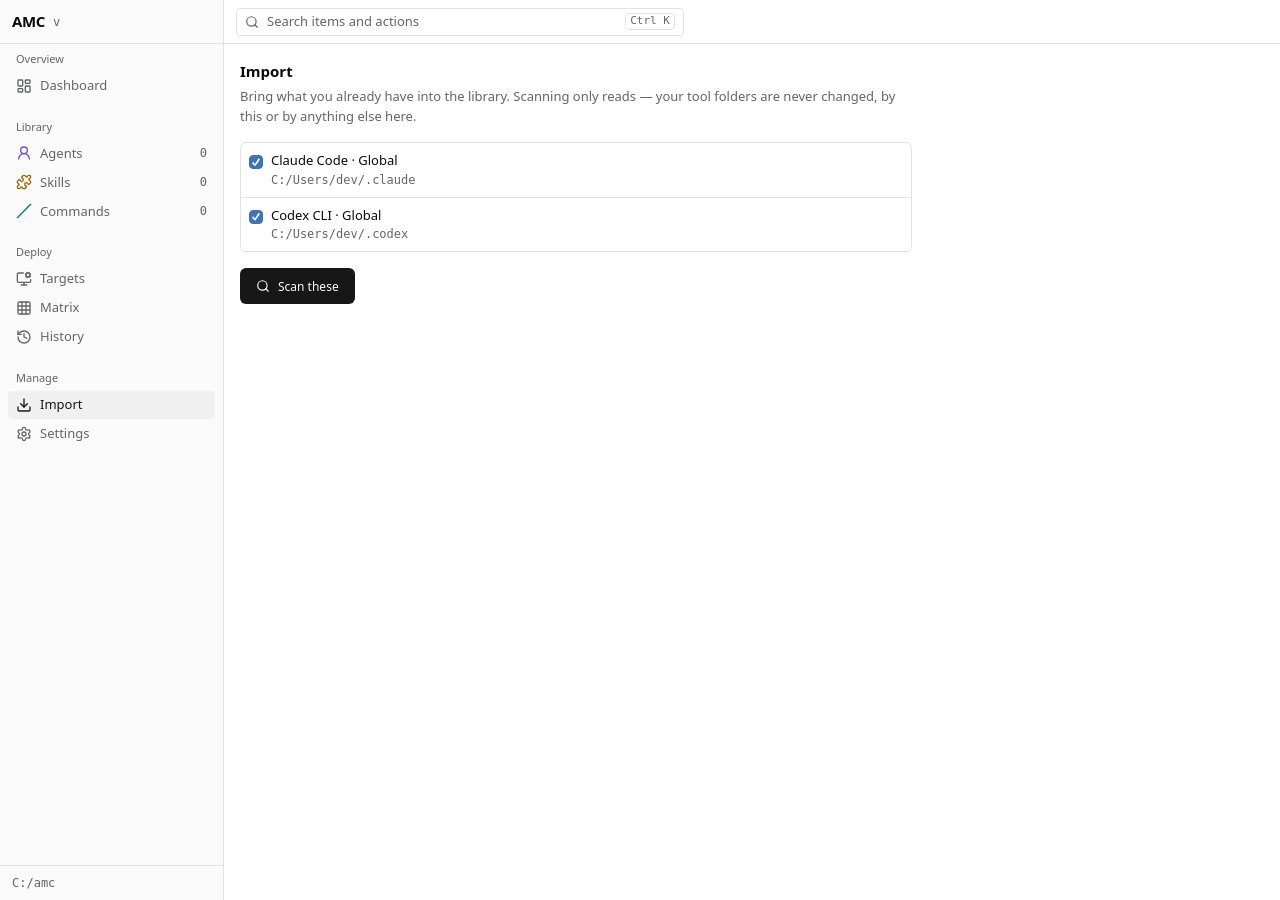
Test: reviewing what was found (T1.8.2, T1.8.5) › shows one item with every tool it was found in
This screenshot has width=1280, height=900.
Click the button "Scan these": [297, 286] box [240,268,355,304]
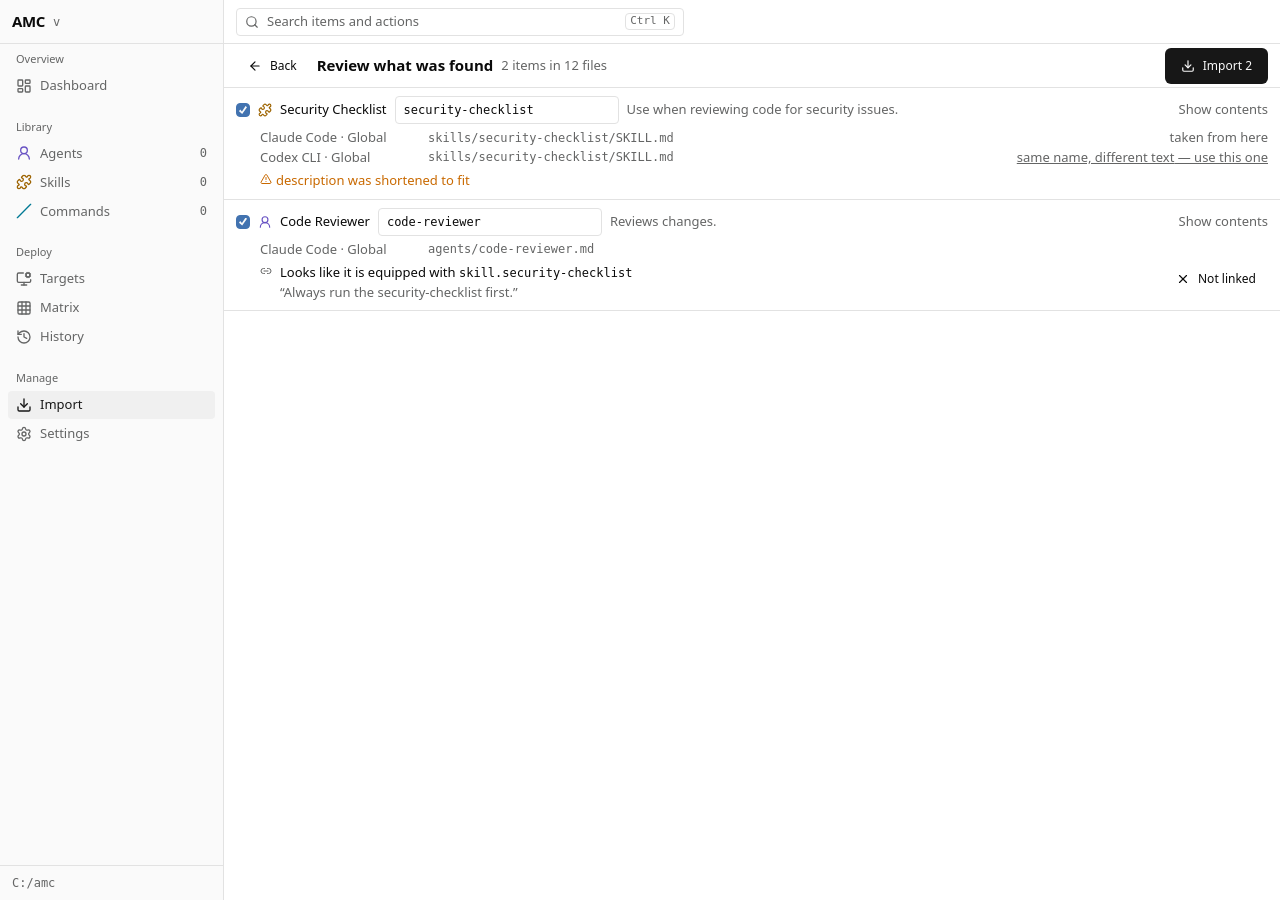
Expected: the text "Codex CLI · Global" is shown, [260,148,370,166]
Result: the text "Claude Code · Global" in the row of "taken from here" is shown at [260,128,387,146]
Result: the button "same name, different text — use this one" is shown at [1017,148,1268,167]
